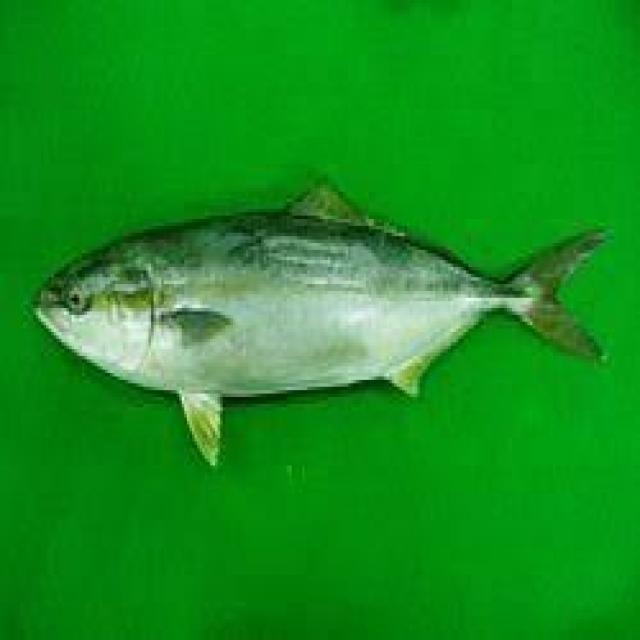Kingfish: (20, 161, 640, 455)
